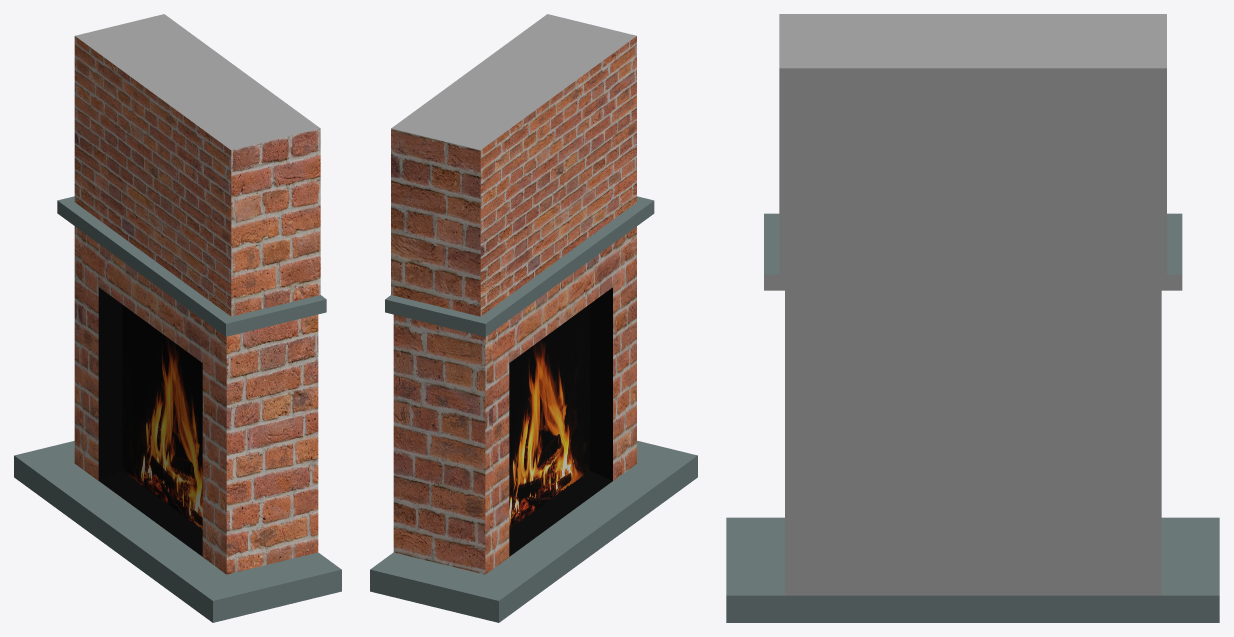
Rendered from Chimenea6.fbx.
3 renders of one model, left to right at view 1: azimuth 30°, elevation 25°; view 2: azimuth 150°, elevation 25°; view 3: azimuth 270°, elevation 25°, orthographic. The views are drawn at different scales.
Parts seen in each view (by area): view 1: polySurface62; view 2: polySurface62; view 3: polySurface62.
Boxes of the visible parts, x1=… form: polySurface62: x1=14, y1=14, x2=341, y2=622; polySurface62: x1=370, y1=14, x2=697, y2=622; polySurface62: x1=726, y1=14, x2=1219, y2=622.
Size of the model in its own units: 3.65 by 12.08 by 9.73.
Materials: 5 (2 with a texture image).
